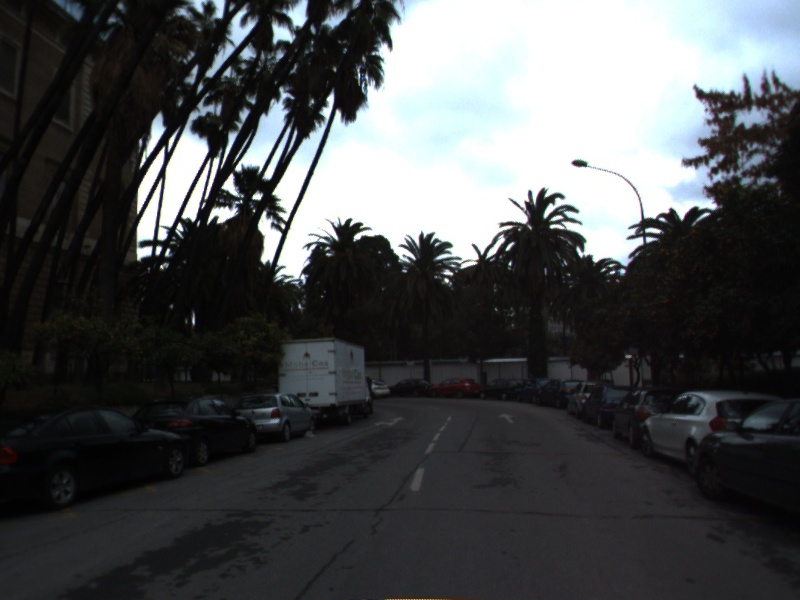STRAIGHT: (496, 411, 518, 425)
STRAIGHT_LEFT: (372, 414, 408, 429)
